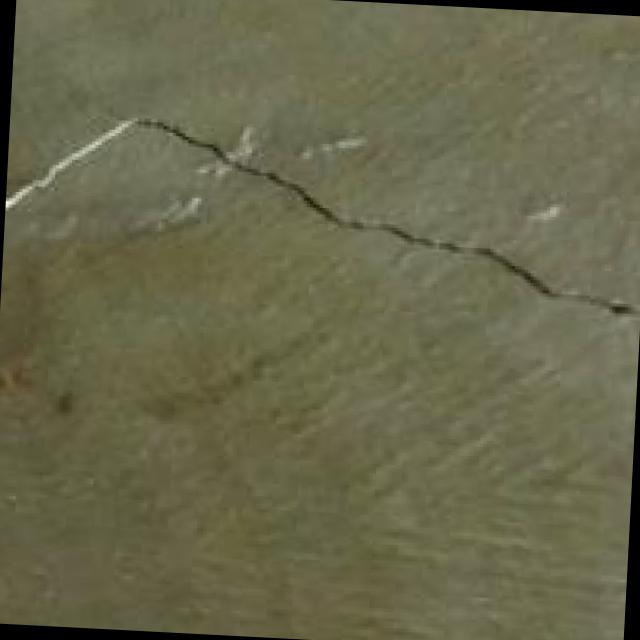crack: (1, 70, 640, 372)
